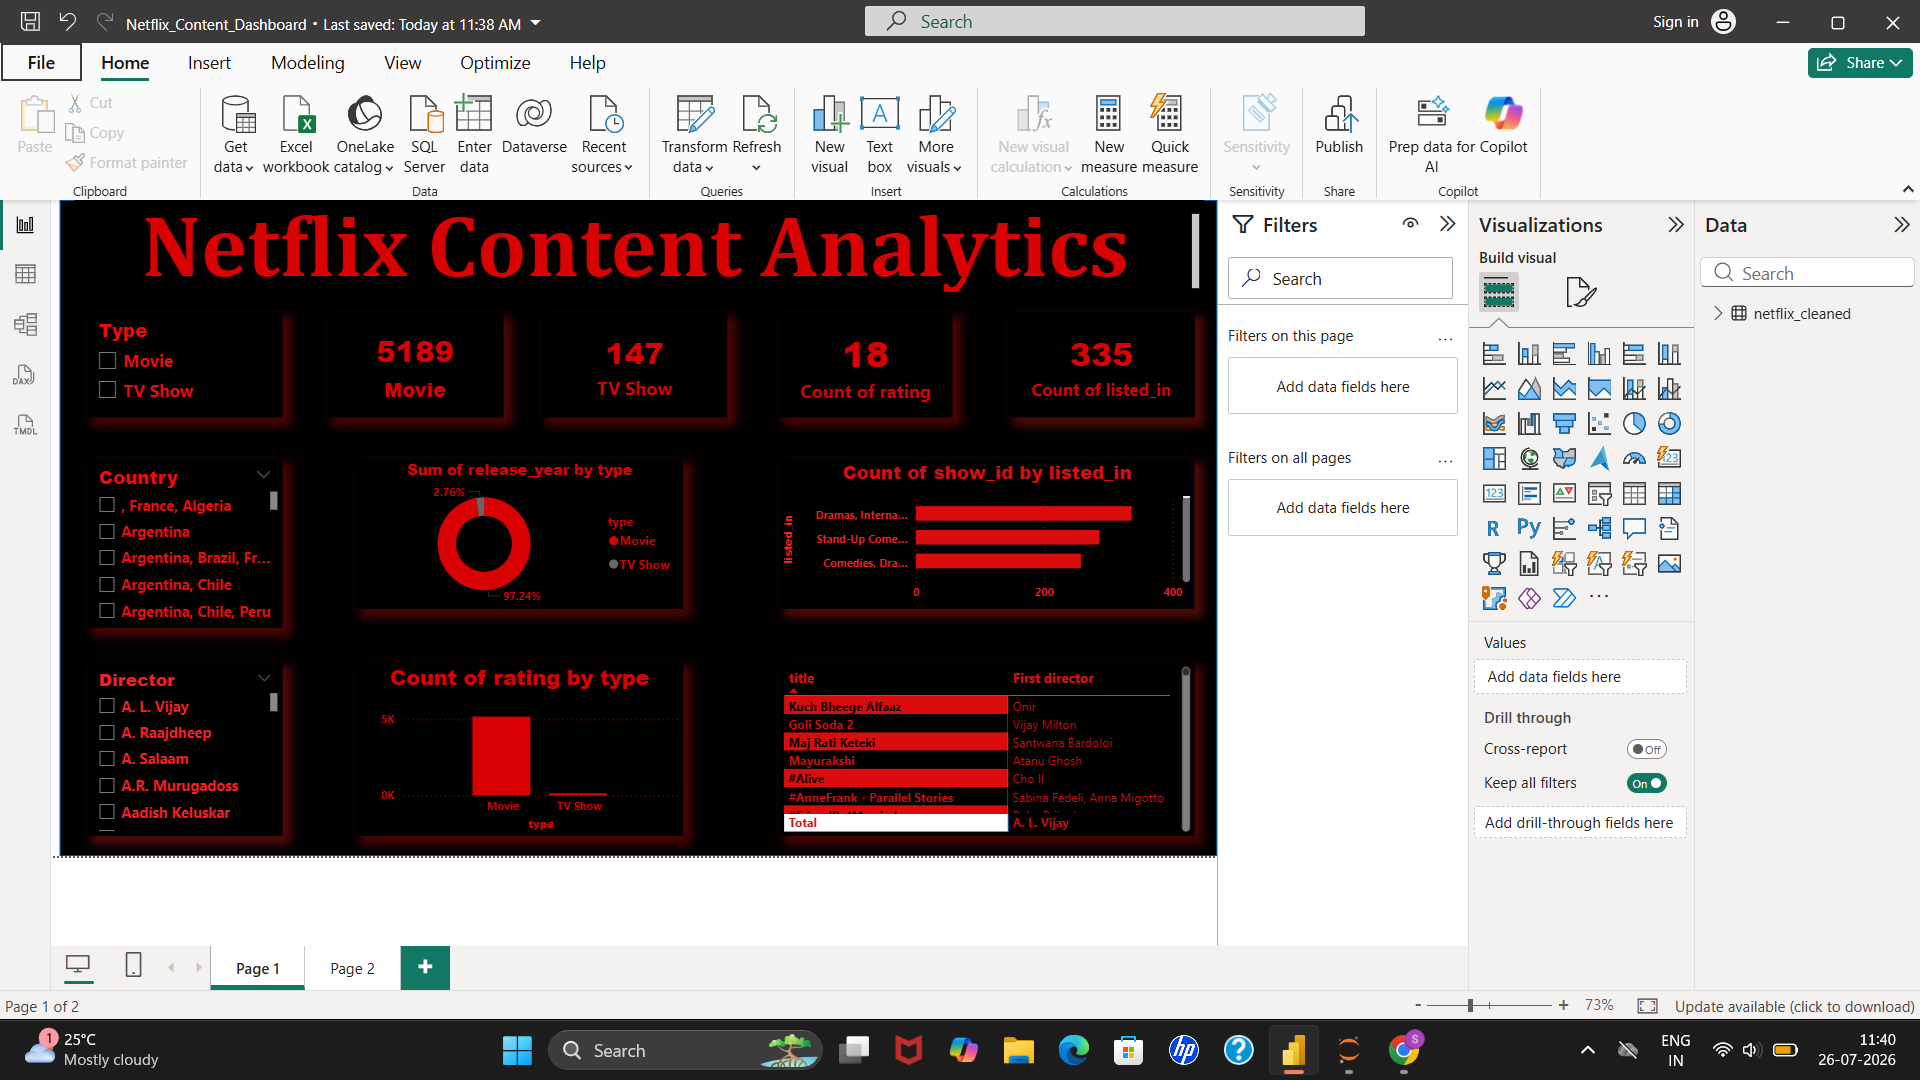

What the dashboard file says about the page in this screenshot:
{"tool":"powerbi","page":{"name":"Page 1","canvas":[1280,720],"ordinal":0},"visuals":[{"type":"shape","box":[9.6,0,1270.7,720.4],"z":0},{"type":"card","fields":{"Values":["Count(netflix_cleaned.rating)"]},"box":[800,123.5,189.4,115.3],"z":1000},{"type":"card","fields":{"Values":["netflix_cleaned.TV Show"]},"box":[539.3,123.5,203.1,115.3],"z":2000},{"type":"card","fields":{"Values":["netflix_cleaned.Movie"]},"box":[303.3,123.5,193.5,115.3],"z":3000},{"type":"columnChart","fields":{"Category":["netflix_cleaned.type"],"Y":["CountNonNull(netflix_cleaned.rating)"]},"box":[334.8,507.7,359.5,190.7],"z":4000},{"type":"donutChart","fields":{"Category":["netflix_cleaned.type"],"Y":["Sum(netflix_cleaned.release_year)"]},"box":[334.8,284,359.5,164.7],"z":5000},{"type":"slicer","fields":{"Values":["netflix_cleaned.type"]},"box":[39.8,123.5,214.1,115.3],"z":6000},{"type":"slicer","fields":{"Values":["netflix_cleaned.country"]},"box":[39.8,284,214.1,185.2],"z":7000},{"type":"slicer","fields":{"Values":["netflix_cleaned.director"]},"box":[39.8,507.7,214.1,190.7],"z":8000},{"type":"barChart","fields":{"Category":["netflix_cleaned.listed_in"],"Y":["CountNonNull(netflix_cleaned.show_id)"]},"box":[800,284,455.6,164.7],"z":9000},{"type":"card","fields":{"Values":["Count(netflix_cleaned.listed_in)"]},"box":[1051.1,123.5,204.5,115.3],"z":10000},{"type":"pivotTable","fields":{"Rows":["netflix_cleaned.title"],"Values":["Min(netflix_cleaned.director)"]},"box":[800,507.7,455.6,190.7],"z":11000},{"type":"textbox","box":[26.1,0,1239.1,105.7],"z":12000}]}

Visuals, with their boxes on the page's 1280x720 design canvas (x1, y1, x2, y2). These are canvas units, not pixel positions in the 1920x1080 screenshot, which may show the page scaled, cropped or inside an application window:
shape: bbox=(10, 0, 1280, 720)
card - Count(netflix_cleaned.rating): bbox=(800, 124, 989, 239)
card - netflix_cleaned.TV Show: bbox=(539, 124, 742, 239)
card - netflix_cleaned.Movie: bbox=(303, 124, 497, 239)
columnChart - netflix_cleaned.type x CountNonNull(netflix_cleaned.rating): bbox=(335, 508, 694, 698)
donutChart - netflix_cleaned.type x Sum(netflix_cleaned.release_year): bbox=(335, 284, 694, 449)
slicer - netflix_cleaned.type: bbox=(40, 124, 254, 239)
slicer - netflix_cleaned.country: bbox=(40, 284, 254, 469)
slicer - netflix_cleaned.director: bbox=(40, 508, 254, 698)
barChart - netflix_cleaned.listed_in x CountNonNull(netflix_cleaned.show_id): bbox=(800, 284, 1256, 449)
card - Count(netflix_cleaned.listed_in): bbox=(1051, 124, 1256, 239)
pivotTable - netflix_cleaned.title x Min(netflix_cleaned.director): bbox=(800, 508, 1256, 698)
textbox: bbox=(26, 0, 1265, 106)
